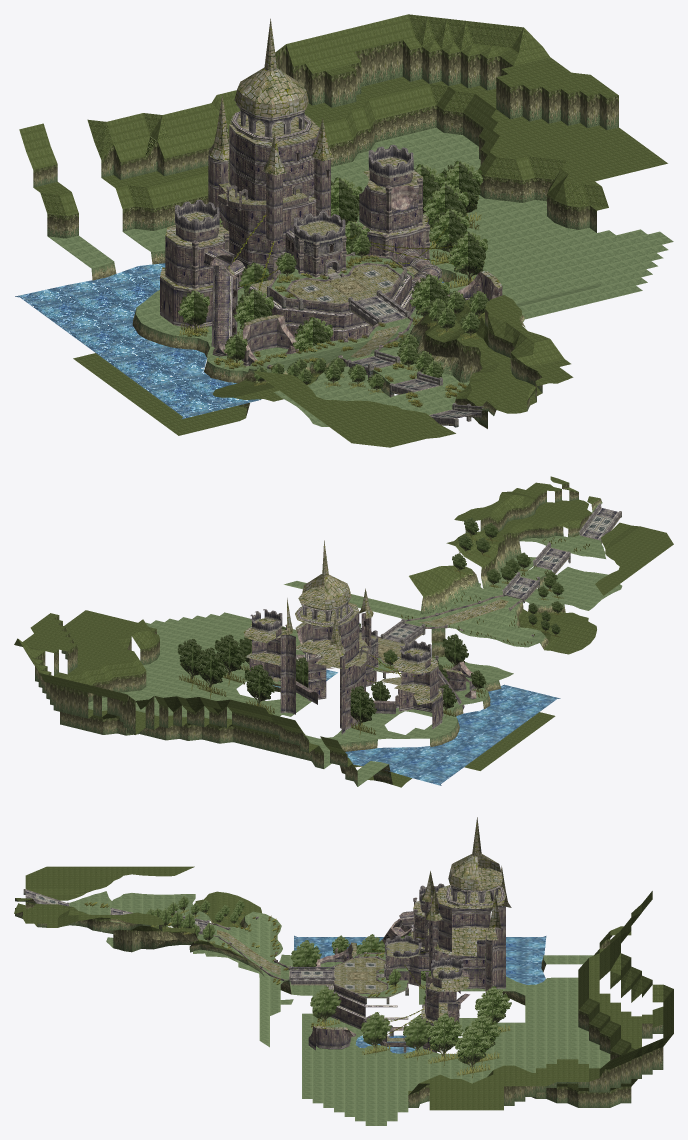
File: StargazerTower.obj
3 renders of one model, top to bottom at view 1: azimuth 30°, elevation 25°; view 2: azimuth 150°, elevation 25°; view 3: azimuth 270°, elevation 25°, orthographic. The views are drawn at different scales.
Parts seen in each view (by area): view 1: Object.433, Object.437, Object.176, Object.438, Object.134, Object.359, Object.195, Object.343, Object.192, Object.435, Object.149, Object.347 (+103 smaller); view 2: Object.433, Object.437, Object.438, Object.227, Object.4, Object.435, Object.192, Object.376, Object.149, Object.194, Object.186, Object.405 (+64 smaller); view 3: Object.178, Object.406, Object.421, Object.192, Object.55, Object.433, Object.63, Object.340, Object.53, Object.56, Object.47, Object.62 (+58 smaller).
Part boxes in pixels (x1=…): Object.433: x1=15, y1=278, x2=152, y2=329; Object.437: x1=99, y1=340, x2=206, y2=401; Object.176: x1=126, y1=110, x2=207, y2=187; Object.438: x1=162, y1=369, x2=261, y2=418; Object.134: x1=378, y1=40, x2=448, y2=83; Object.359: x1=165, y1=225, x2=234, y2=284; Object.195: x1=449, y1=21, x2=537, y2=122; Object.343: x1=258, y1=160, x2=330, y2=262; Object.192: x1=541, y1=138, x2=629, y2=179; Object.435: x1=64, y1=310, x2=167, y2=354; Object.149: x1=473, y1=325, x2=557, y2=389; Object.347: x1=255, y1=128, x2=330, y2=204; Object.433: x1=387, y1=748, x2=471, y2=785; Object.437: x1=456, y1=706, x2=541, y2=742; Object.438: x1=482, y1=684, x2=560, y2=719; Object.227: x1=545, y1=617, x2=596, y2=654; Object.4: x1=253, y1=503, x2=621, y2=672; Object.435: x1=415, y1=727, x2=496, y2=761; Object.192: x1=73, y1=620, x2=141, y2=649; Object.376: x1=299, y1=540, x2=349, y2=609; Object.149: x1=492, y1=492, x2=554, y2=532; Object.194: x1=28, y1=630, x2=95, y2=682; Object.186: x1=92, y1=647, x2=146, y2=677; Object.405: x1=177, y1=600, x2=469, y2=690; Object.178: x1=589, y1=967, x2=641, y2=1031; Object.406: x1=89, y1=902, x2=432, y2=1060; Object.421: x1=227, y1=944, x2=463, y2=1067; Object.192: x1=440, y1=1079, x2=493, y2=1101; Object.55: x1=302, y1=1058, x2=354, y2=1080; Object.433: x1=506, y1=936, x2=546, y2=970; Object.63: x1=355, y1=1076, x2=407, y2=1098; Object.340: x1=450, y1=945, x2=497, y2=989; Object.53: x1=546, y1=1036, x2=598, y2=1058; Object.56: x1=355, y1=1058, x2=407, y2=1080; Object.47: x1=494, y1=1036, x2=546, y2=1058; Object.62: x1=302, y1=1076, x2=354, y2=1098.
Bounding box in the file's own units: 190 × 88.4 × 248.
16 materials, 16 textured.
